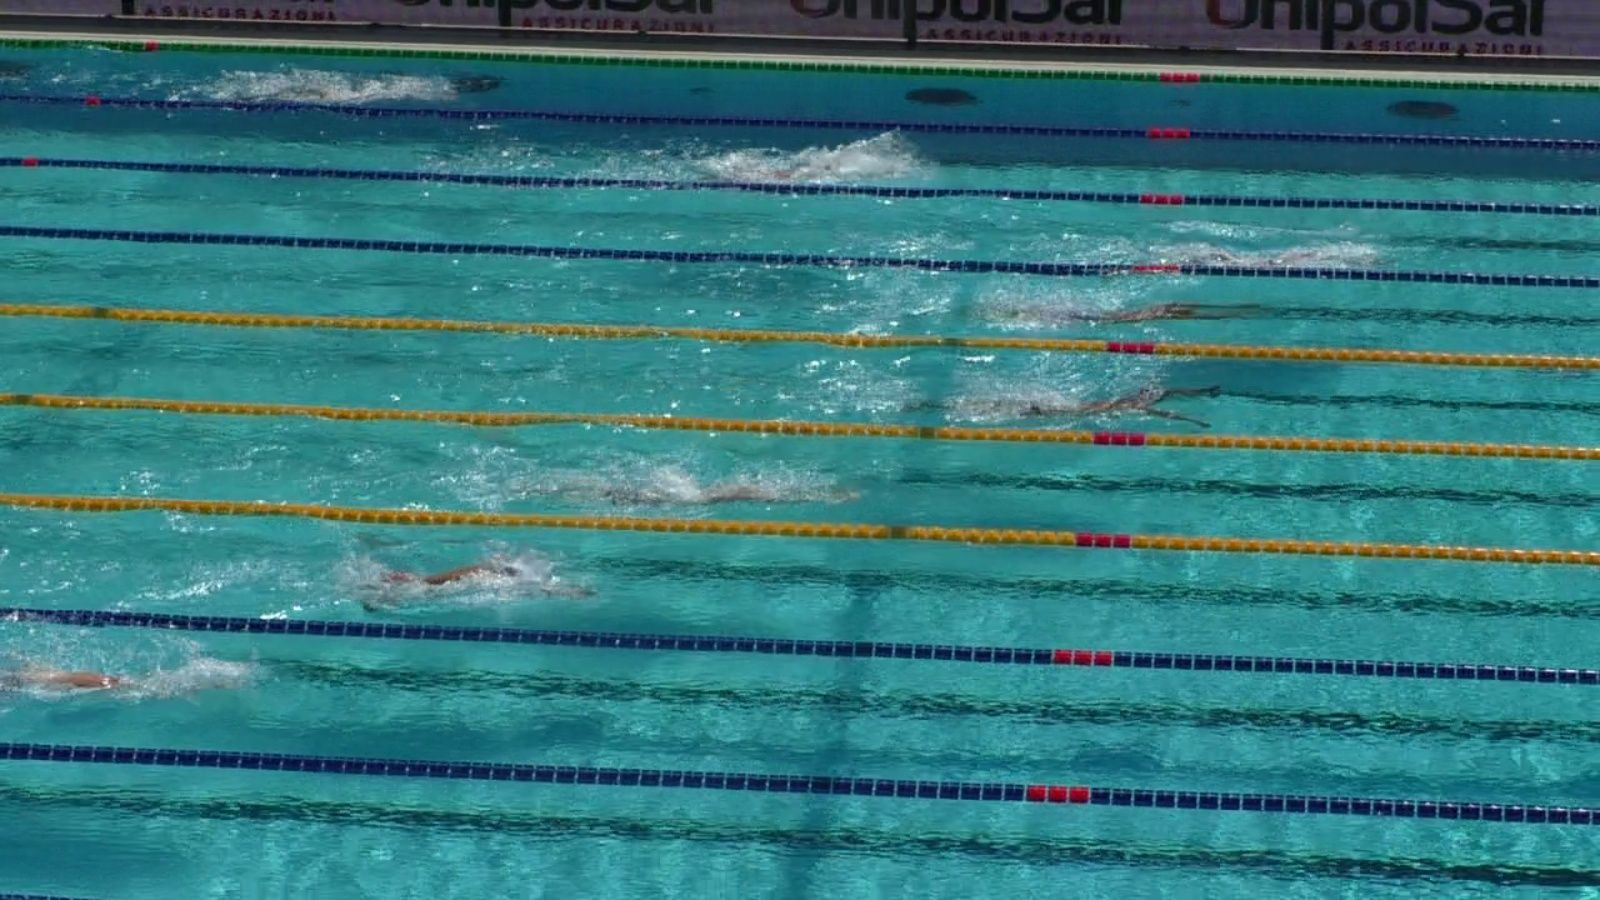swimmerwdd: (949, 380, 1223, 429), (577, 473, 842, 512), (354, 563, 598, 605), (9, 657, 216, 700), (1016, 296, 1262, 327), (1165, 243, 1359, 276), (705, 153, 891, 184), (237, 81, 434, 107)
